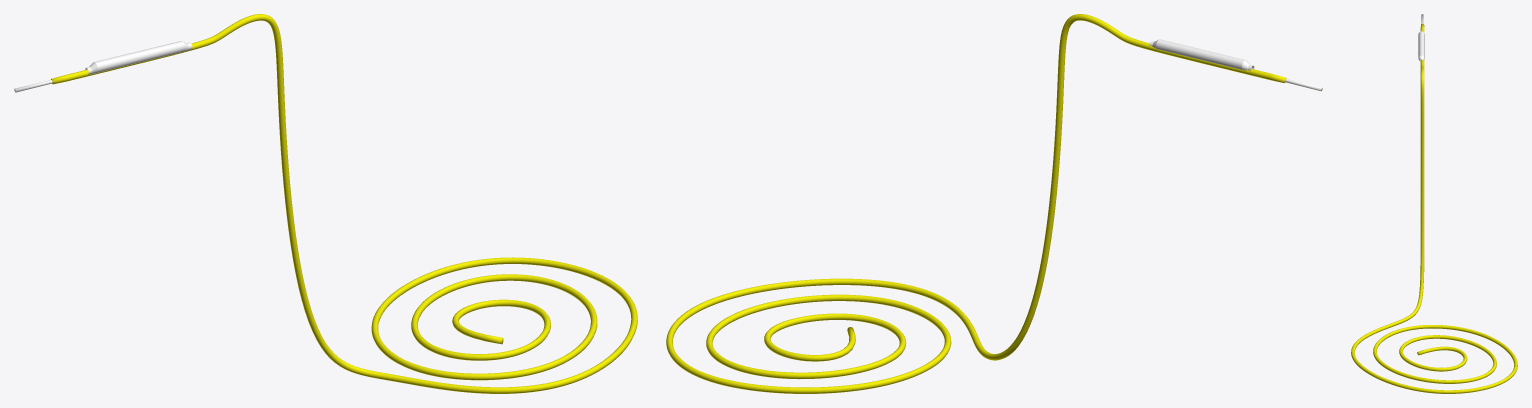
Rendered from kabel dengan sleeve.fbx.
3 renders of one model, left to right at view 1: azimuth 30°, elevation 25°; view 2: azimuth 150°, elevation 25°; view 3: azimuth 270°, elevation 25°, orthographic. The views are drawn at different scales.
Parts seen in each view (by area): view 1: NurbsPath.004, Protection Sleeve; view 2: NurbsPath.004, Protection Sleeve; view 3: NurbsPath.004, Protection Sleeve.
Part boxes in pixels (x1,y1,x2,y2): NurbsPath.004: (51,14,637,393); Protection Sleeve: (85,41,192,74); NurbsPath.004: (666,14,1286,393); Protection Sleeve: (1149,39,1254,70); NurbsPath.004: (1351,23,1517,393); Protection Sleeve: (1418,31,1424,62).
Size of the model in its own units: 15.72 by 9.26 by 6.44.
3 materials, 3 textured.
